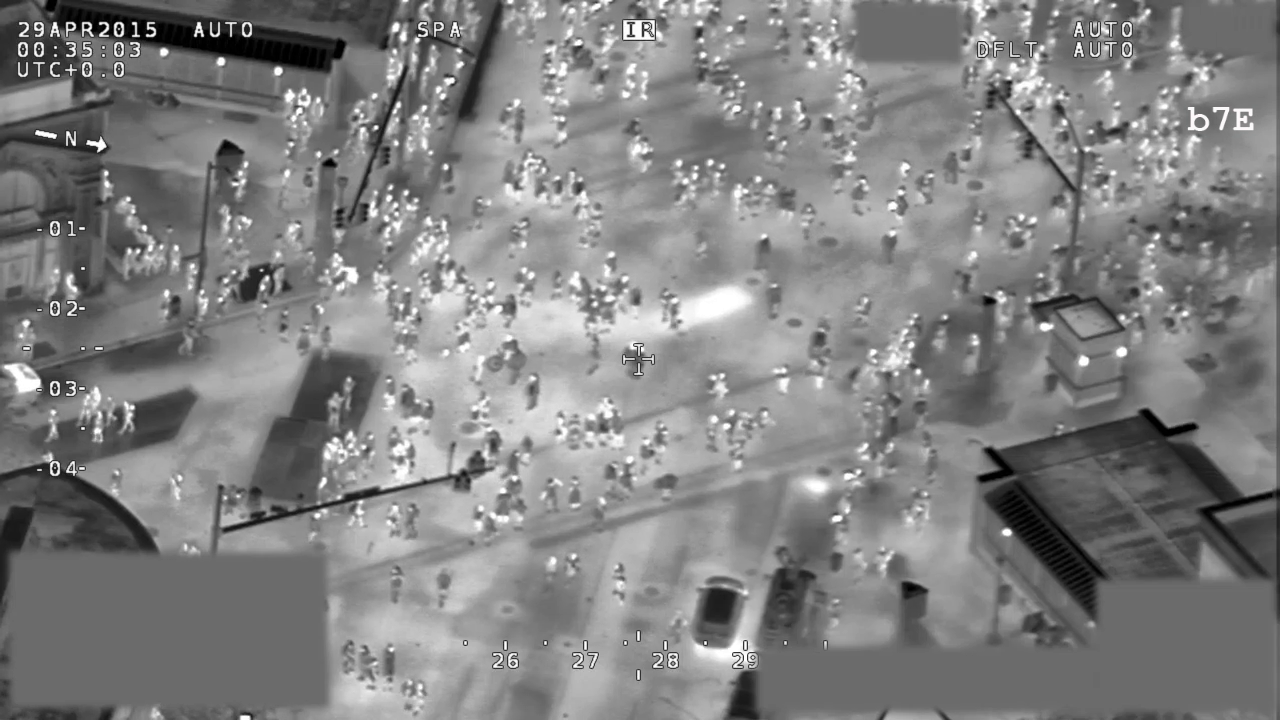vehicle: (688, 566, 753, 654)
